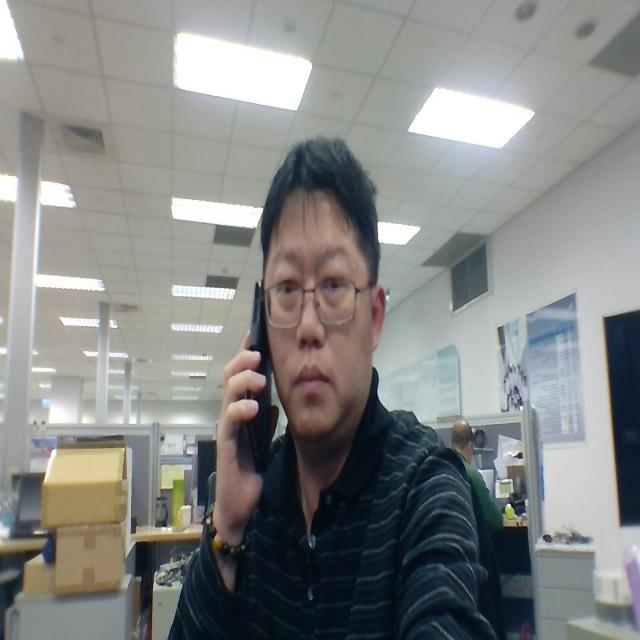phone: (206, 268, 283, 534)
